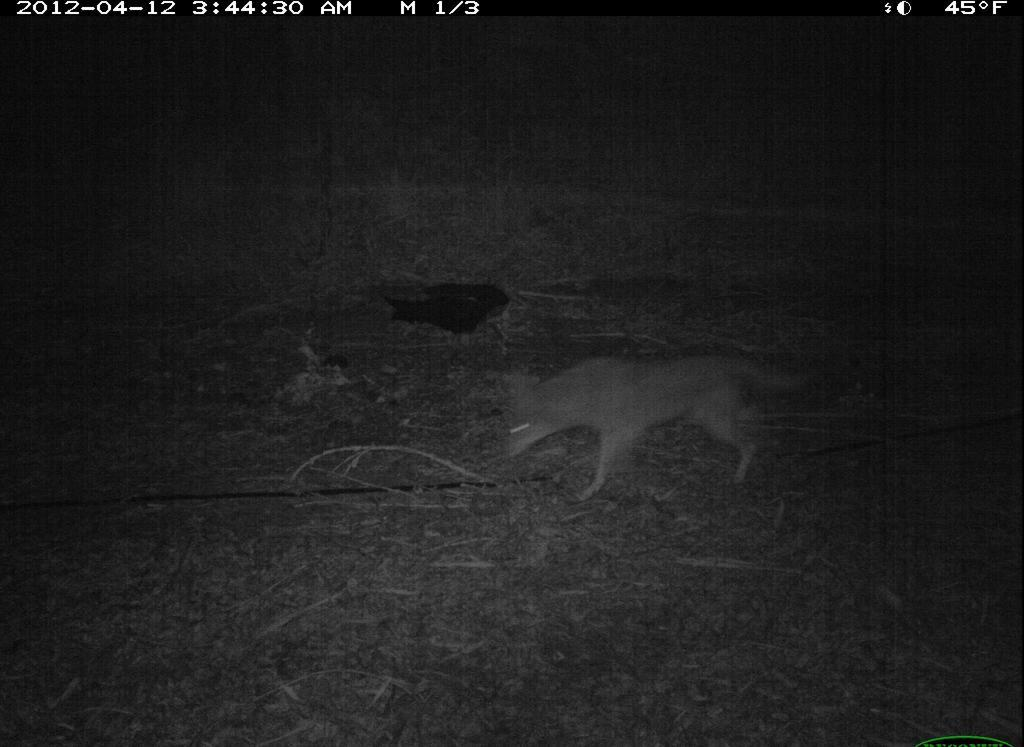coyote: (481, 341, 829, 539)
